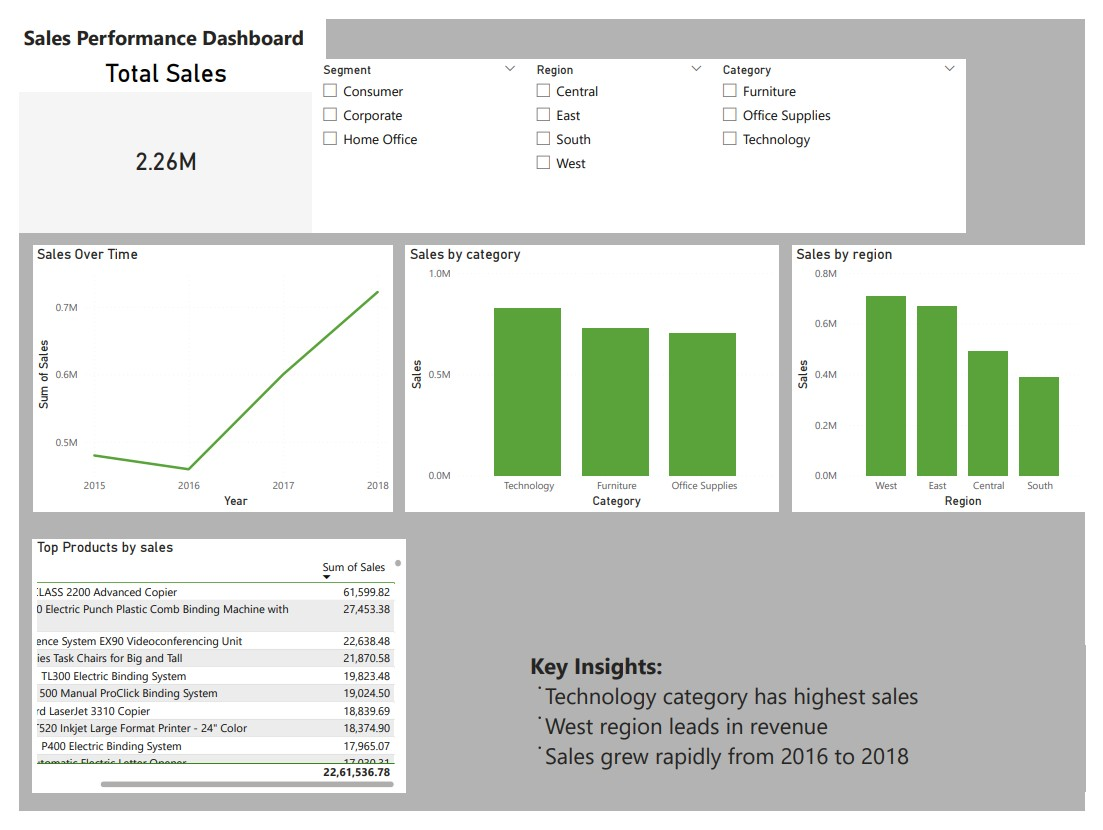

Layout of this report page (visuals, bound fields, positions):
{"tool":"powerbi","page":{"name":"Page 1","canvas":[1280,950],"ordinal":0},"visuals":[{"type":"card","title":"Total Sales","fields":{"Values":["Sum(train.Sales)"]},"box":[0,48,352,208],"z":0},{"type":"lineChart","title":"Sales Over Time","fields":{"Category":["train.Order Date.Variation.Date Hierarchy.Year","train.Order Date.Variation.Date Hierarchy.Quarter","train.Order Date.Variation.Date Hierarchy.Month","train.Order Date.Variation.Date Hierarchy.Day"],"Y":["Sum(train.Sales)"]},"box":[16,272,432,320],"z":1000},{"type":"columnChart","title":"Sales by category","fields":{"Category":["train.Category"],"Y":["Sum(train.Sales)"]},"box":[464,272,448,320],"z":2000},{"type":"columnChart","title":"Sales by region","fields":{"Category":["train.Region"],"Y":["Sum(train.Sales)"]},"box":[928,272,352,320],"z":3000},{"type":"slicer","fields":{"Values":["train.Region"]},"box":[608,48,224,208],"z":4000},{"type":"slicer","fields":{"Values":["train.Category"]},"box":[832,48,304,208],"z":5000},{"type":"slicer","fields":{"Values":["train.Segment"]},"box":[352,48,256,208],"z":6000},{"type":"tableEx","title":"Top Products by sales ","fields":{"Values":["train.Product Name","Sum(train.Sales)"]},"box":[16,624,448,304],"z":7000},{"type":"textbox","box":[608,752,672,176],"z":7001},{"type":"textbox","box":[0,0,368,48],"z":7002}]}

Visuals, with their boxes in screenshot pixels (x1, y1, x2, y2), scaled from the page's 1280x950 canvas onto the 1103x830 screenshot:
"Total Sales" card: 0:42:303:224
"Sales Over Time" lineChart: 14:238:386:517
"Sales by category" columnChart: 400:238:786:517
"Sales by region" columnChart: 800:238:1102:517
slicer - train.Region: 524:42:717:224
slicer - train.Category: 717:42:979:224
slicer - train.Segment: 303:42:524:224
"Top Products by sales " tableEx: 14:545:400:811
textbox: 524:657:1102:811
textbox: 0:0:317:42
